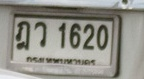txt11: (15, 20, 31, 51)
txt32: (33, 21, 48, 48)
